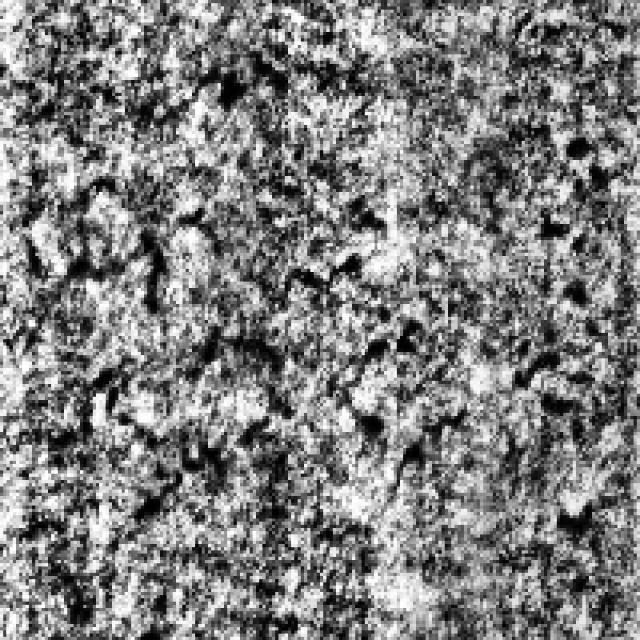Pitted_Surface: (10, 170, 468, 512), (502, 73, 637, 550)
